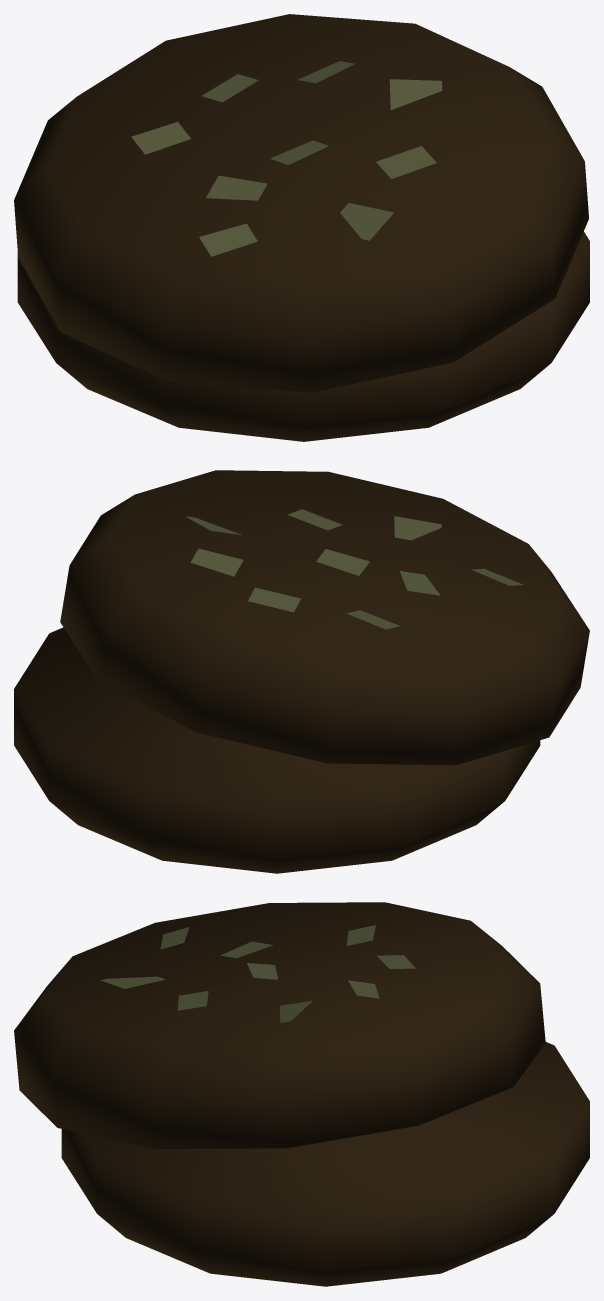
The model's file is BurgerBunBurnt.glb.
3 views of the same model, one above another, from view 1: azimuth 30°, elevation 25°; view 2: azimuth 150°, elevation 25°; view 3: azimuth 270°, elevation 25° (orthographic). The views are drawn at different scales.
Visible parts, largest first — view 1: Cylinder.022; view 2: Cylinder.022; view 3: Cylinder.022.
Part boxes in pixels (x1,y1,x2,y2): Cylinder.022: (14, 14, 589, 441); Cylinder.022: (14, 470, 589, 873); Cylinder.022: (14, 902, 589, 1286).
Size of the model in its own units: 0.4992 by 0.2272 by 0.5143.
